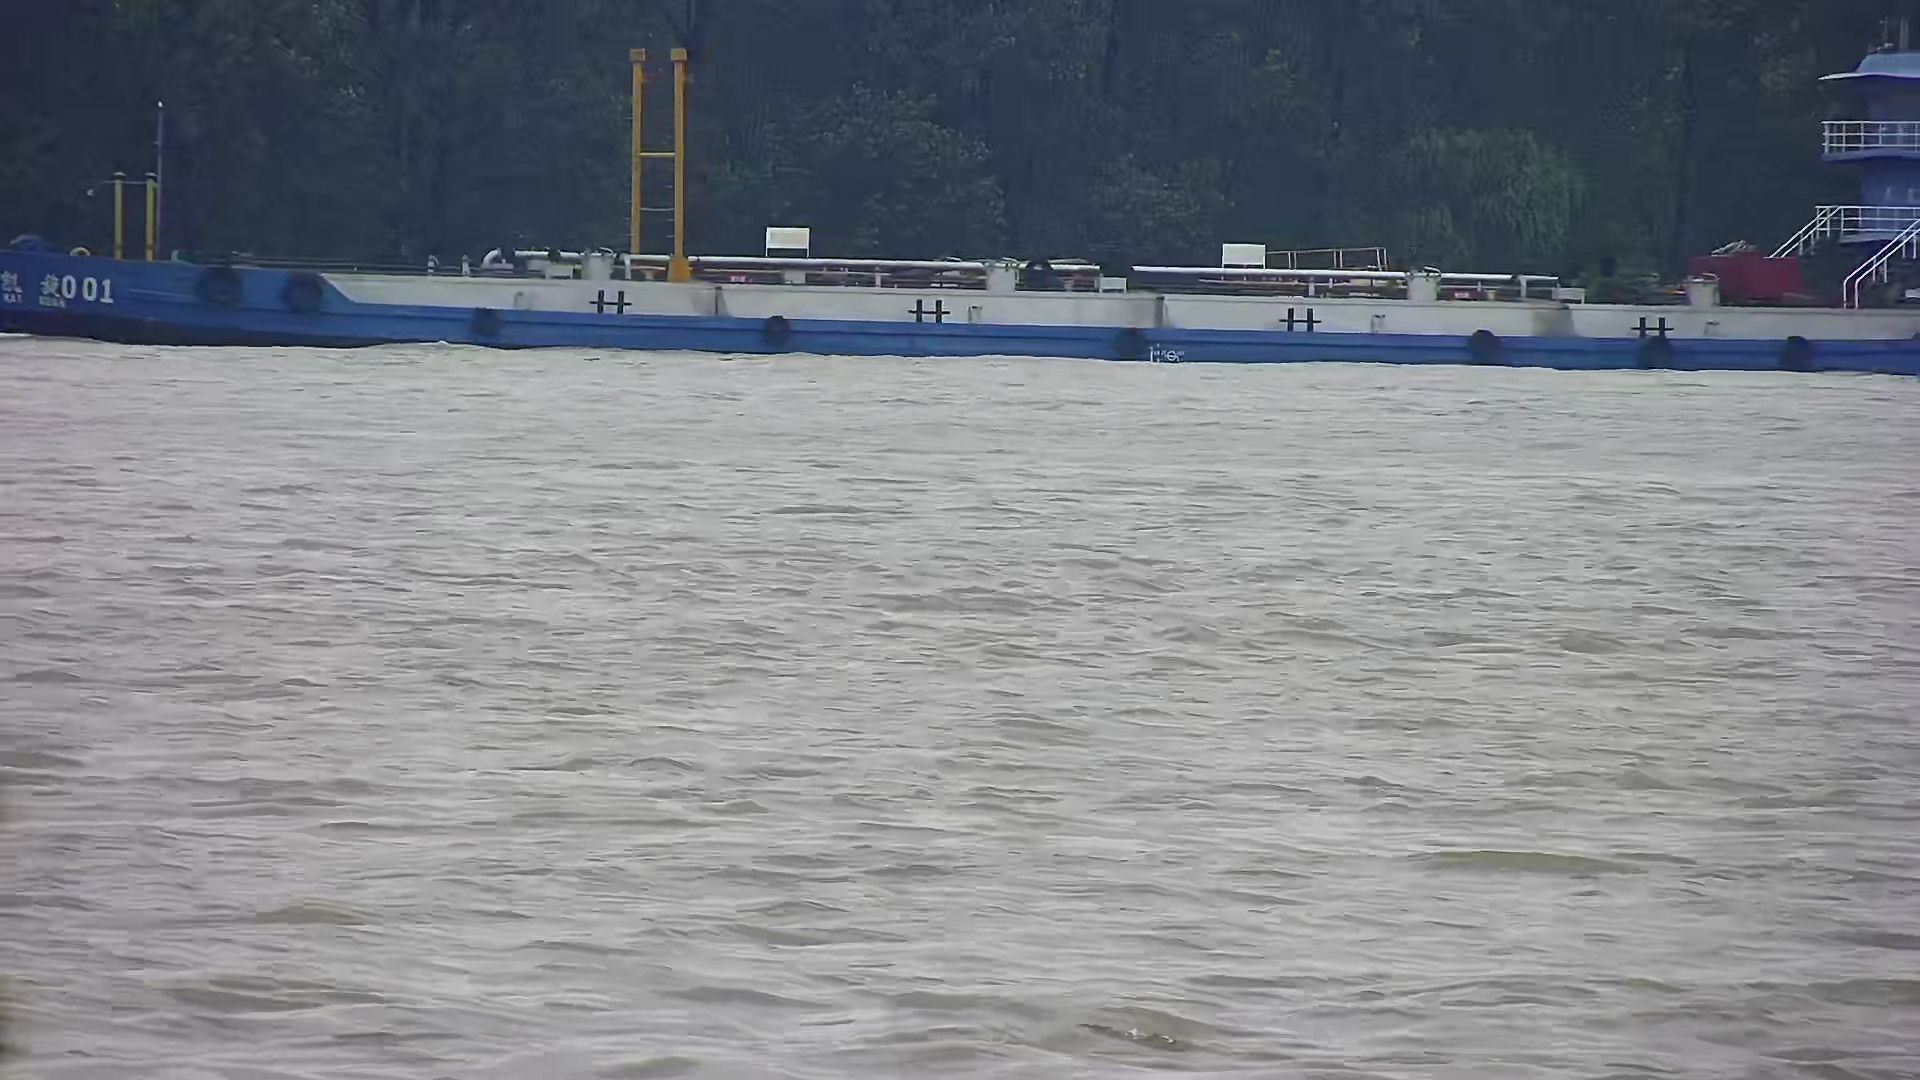ship: (1, 17, 1920, 376)
